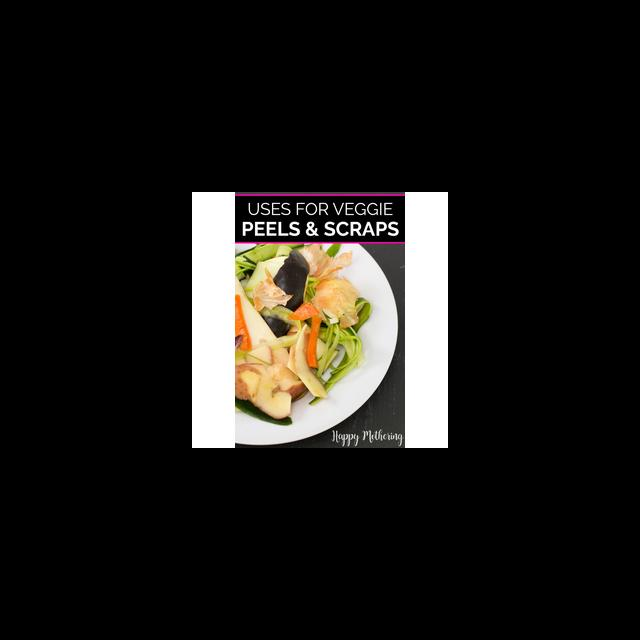food_waste: (237, 243, 347, 419)
